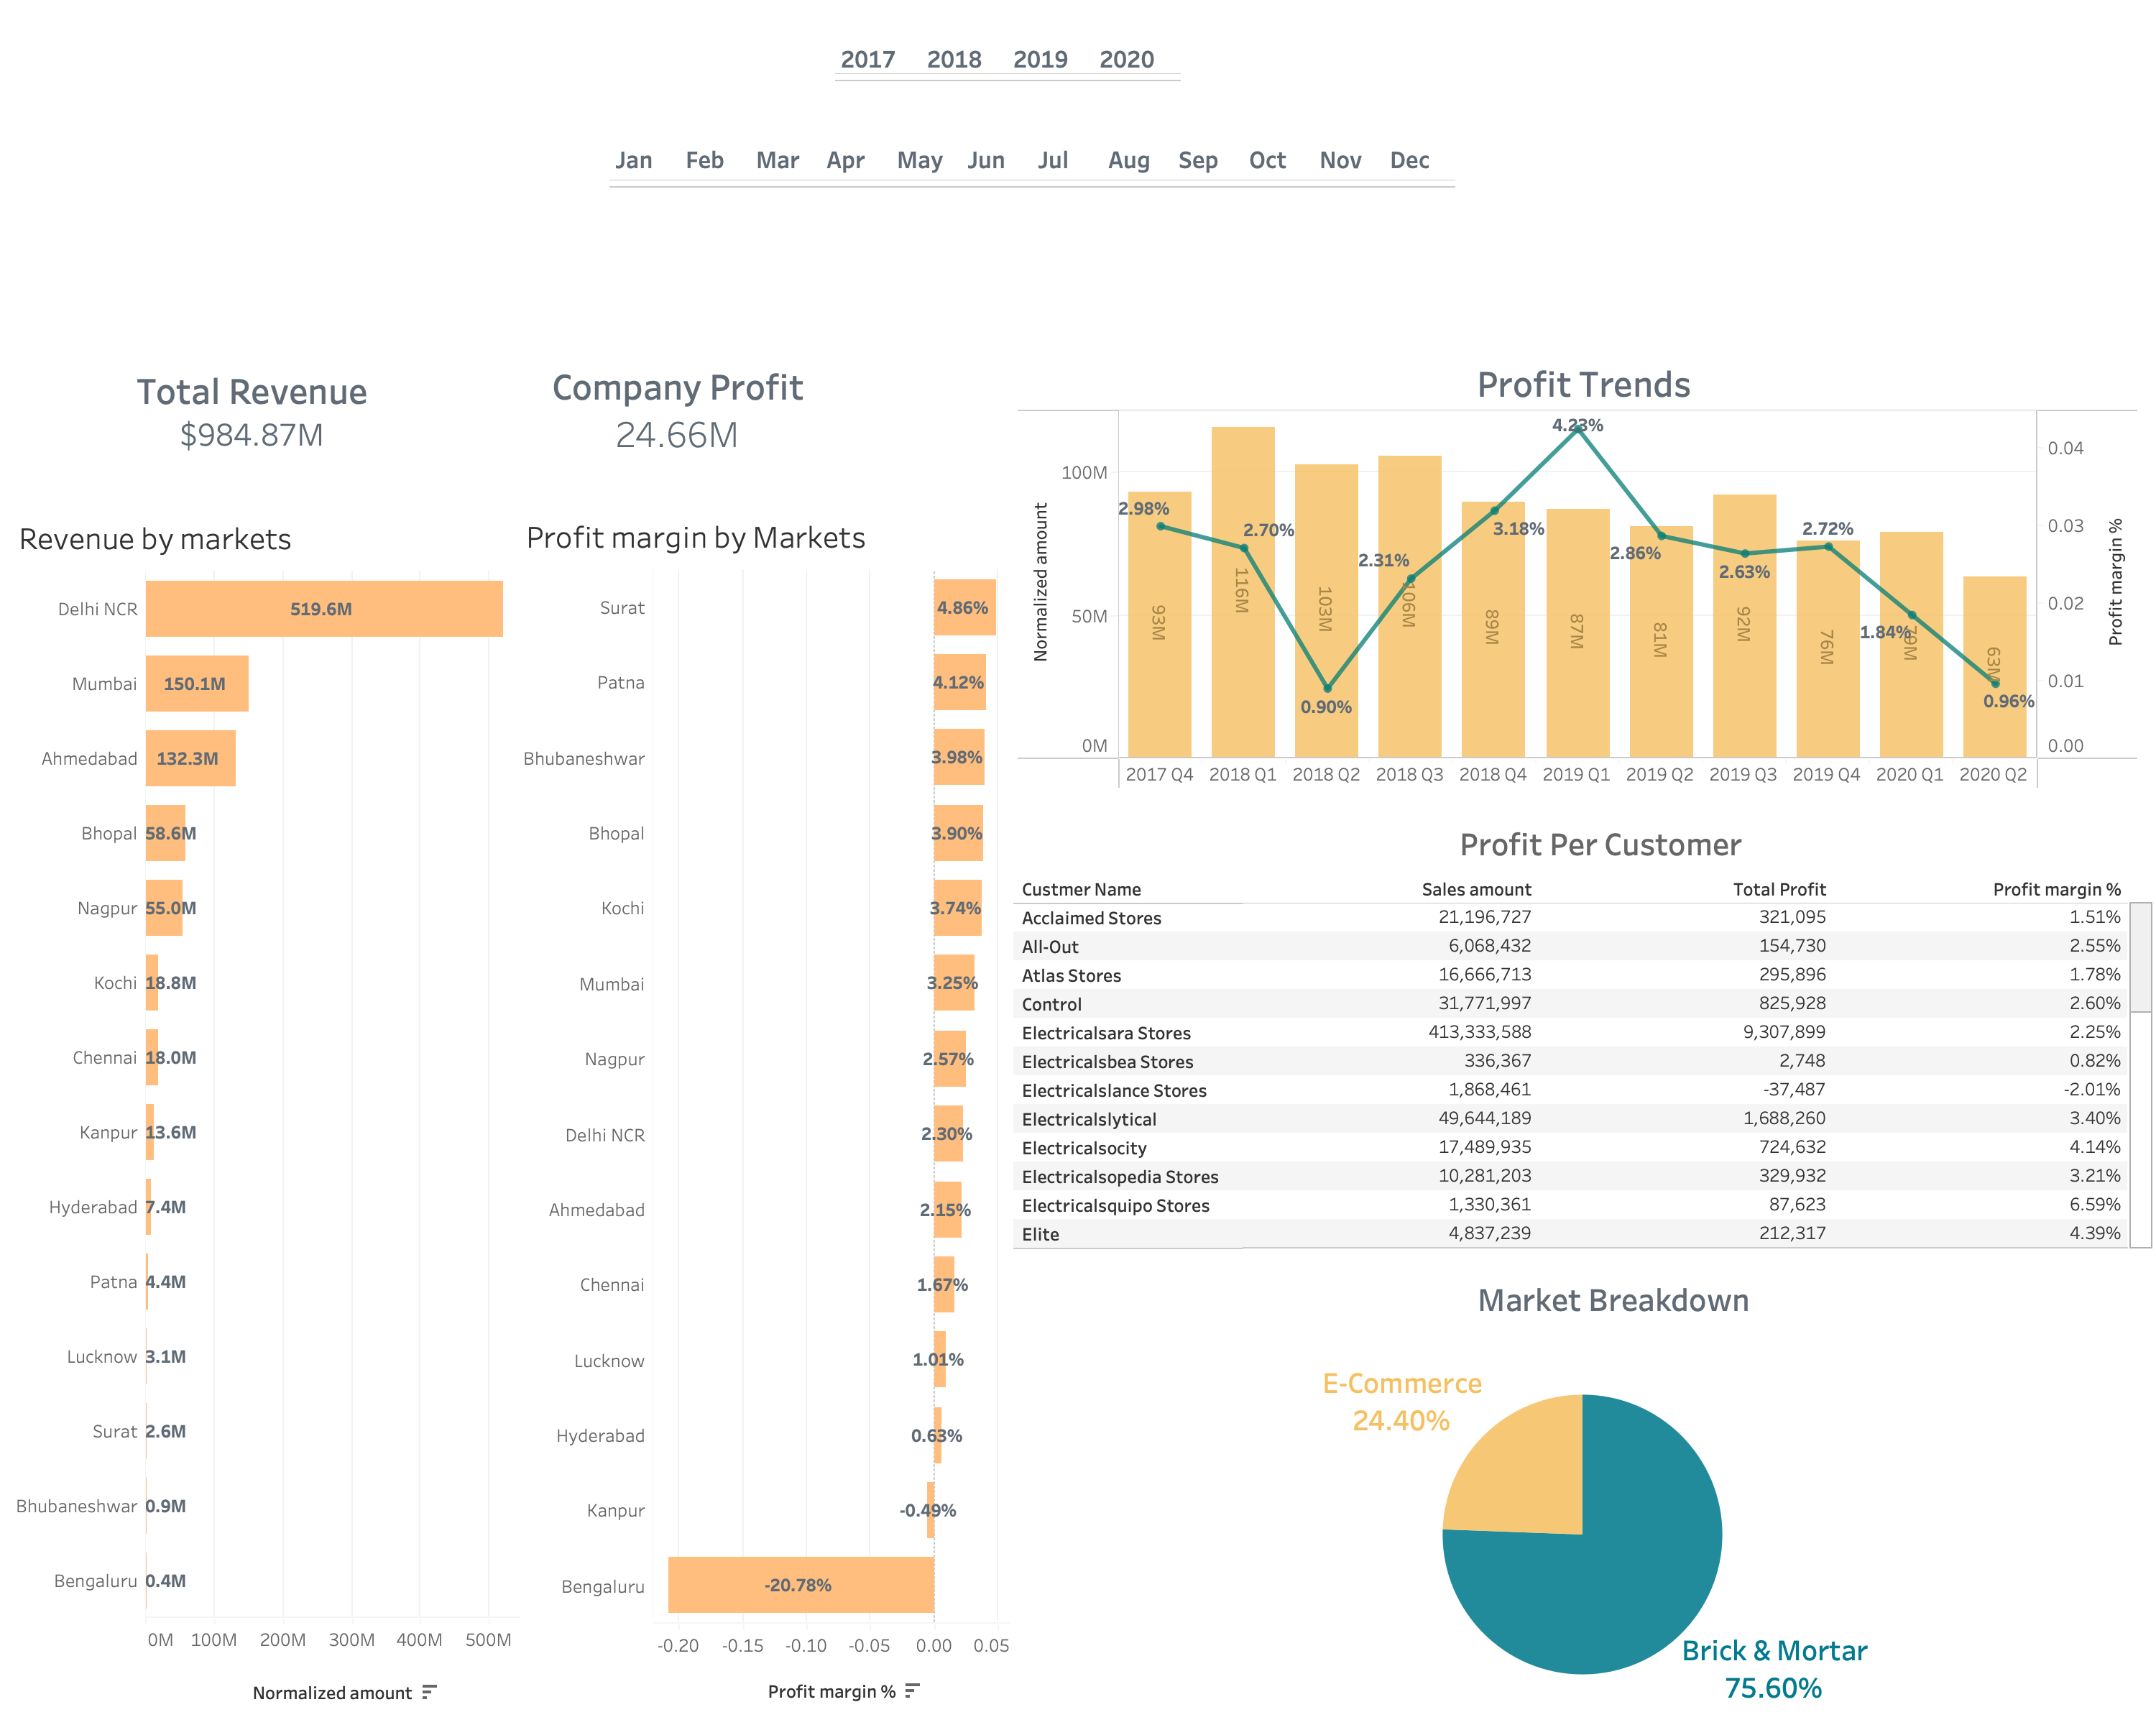

The dashboard page shown, as its layout file describes it:
{"tool":"tableau","page":{"name":"Profit analysis","canvas":[1500,1200],"ordinal":0},"visuals":[{"type":"worksheet","title":"Year","mark":"Automatic","cols":["cy_date"],"box":[581,31,245,38]},{"type":"worksheet","title":"Month","mark":"Automatic","cols":["cy_date"],"box":[424,97,591,45]},{"type":"worksheet","title":"Revenue","mark":"Automatic","box":[86,240,181,92.4]},{"type":"text","box":[1025,251,159,30]},{"type":"worksheet","title":"Profit","mark":"Automatic","box":[372,252,208,67]},{"type":"worksheet","title":"Profit Trend","mark":"Bar","rows":["Calculation_762726865454276610","Calculation_1105633756247216128"],"cols":["cy_date"],"box":[708,285,780,264]},{"type":"worksheet","title":"Profit margin by Markets ","mark":"Automatic","rows":["markets_name"],"cols":["Calculation_1105633756247216128"],"box":[362,353,342,839]},{"type":"text","box":[1013,573,202,28]},{"type":"worksheet","title":"profit per customer","mark":"Automatic","rows":["custmer_name"],"box":[705,608,793,261]},{"type":"text","box":[1023,892,200,24]},{"type":"worksheet","title":"Brick n mortar vs e ccommerrce","mark":"Pie","box":[703,947,796,241]}]}

Visuals, with their boxes in screenshot pixels (x1, y1, x2, y2), scaled from the page's 1500x1200 canvas onto the 2156x1725 screenshot:
"Year" worksheet: bbox(835, 45, 1187, 99)
"Month" worksheet: bbox(609, 139, 1459, 204)
"Revenue" worksheet: bbox(124, 345, 384, 478)
text: bbox(1473, 361, 1702, 404)
"Profit" worksheet: bbox(535, 362, 834, 459)
"Profit Trend" worksheet (Bar marks): bbox(1018, 410, 2139, 789)
"Profit margin by Markets " worksheet: bbox(520, 507, 1012, 1713)
text: bbox(1456, 824, 1746, 864)
"profit per customer" worksheet: bbox(1013, 874, 2153, 1249)
text: bbox(1470, 1282, 1758, 1317)
"Brick n mortar vs e ccommerrce" worksheet (Pie marks): bbox(1010, 1361, 2155, 1708)
